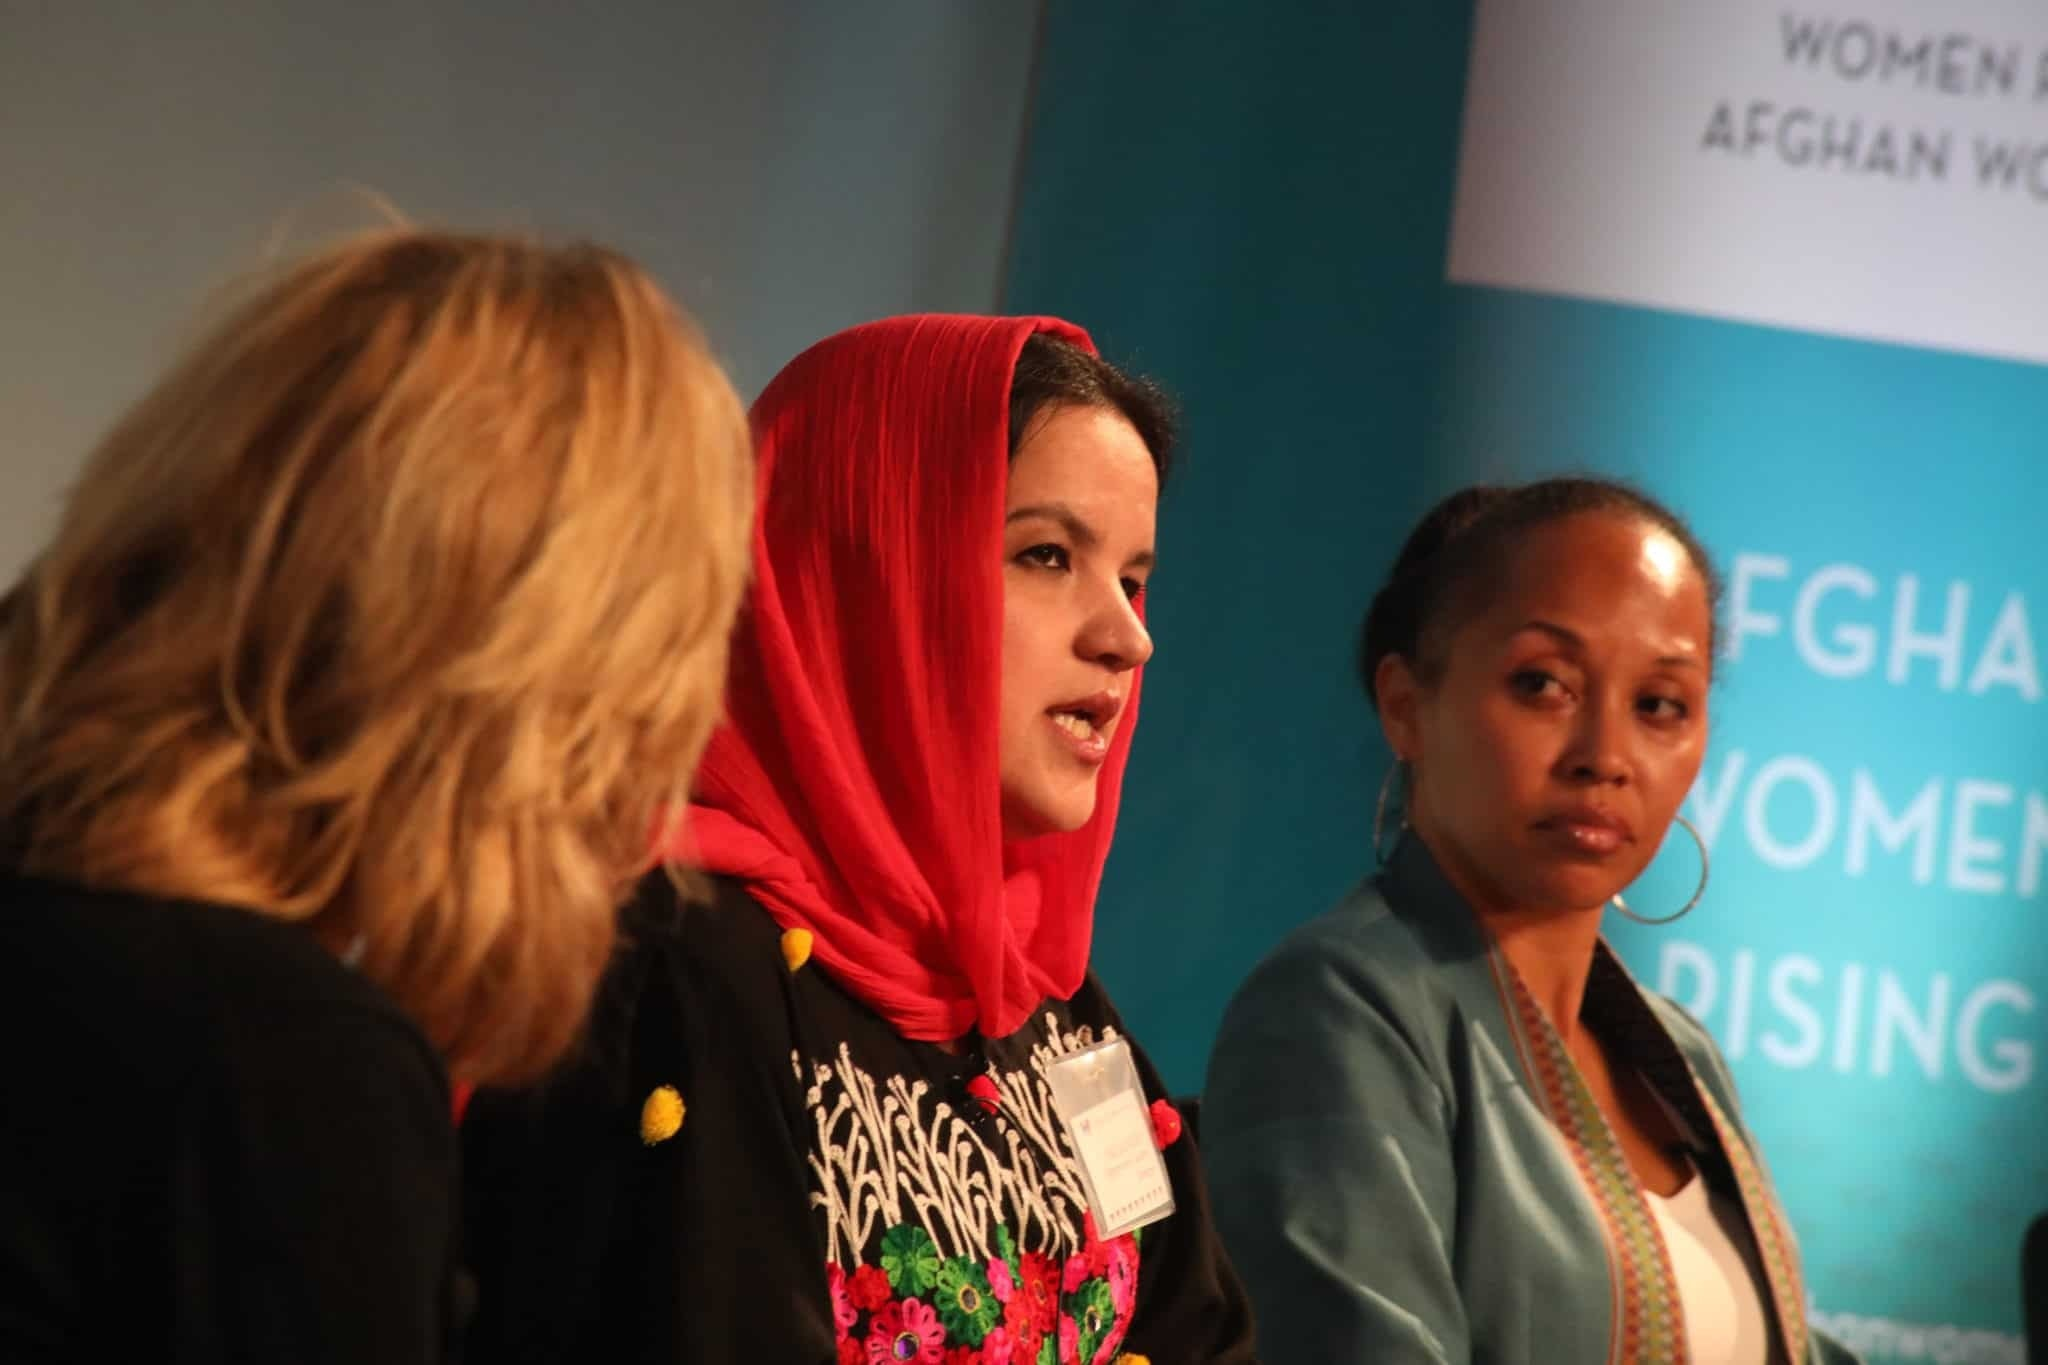face_no_mask: (1355, 480, 1725, 914), (893, 330, 1184, 869)
